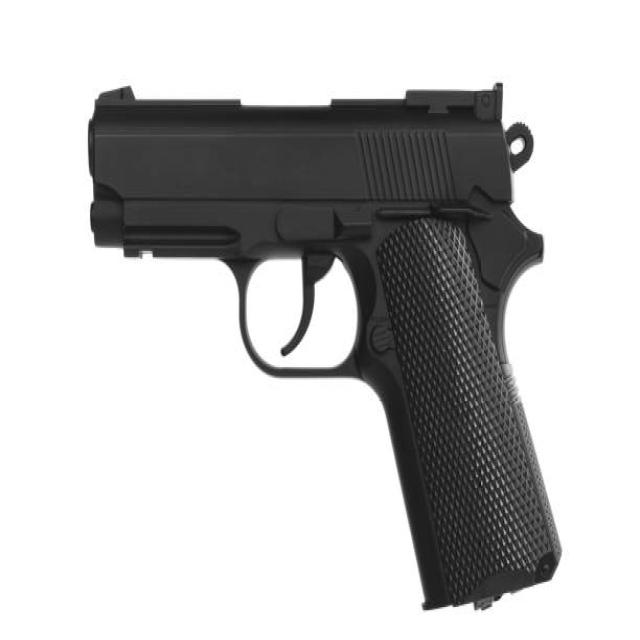pistol: (83, 74, 572, 624)
